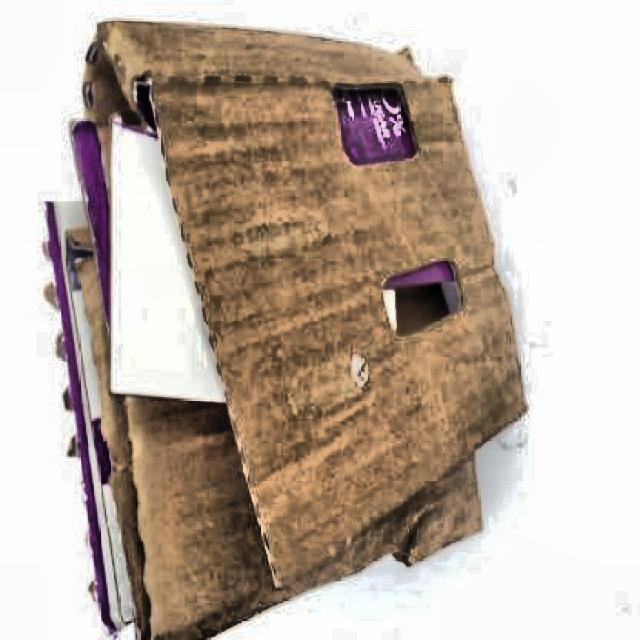Cardbox: (44, 0, 548, 640)
